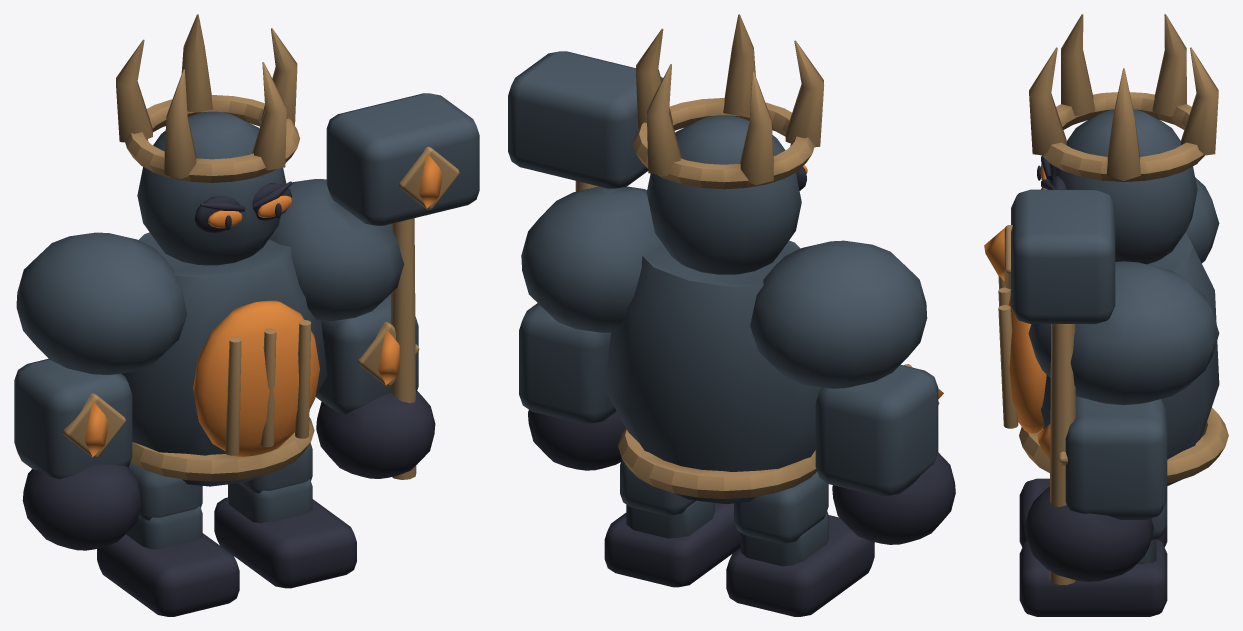
File: boss_1.glb
3 renders of one model, left to right at view 1: azimuth 30°, elevation 25°; view 2: azimuth 150°, elevation 25°; view 3: azimuth 270°, elevation 25°, orthographic. The views are drawn at different scales.
Parts seen in each view (by area): view 1: Email_Art_bras_d_0, Email_Art_bras_g_0, Email_BestiaireSculpte, Email_Art_tete_0, Email_Art_tibia_d_0, Email_Art_tibia_g_0, Email_Art_patte_g_0, Email_Art_patte_d_0; view 2: Email_Art_bras_d_0, Email_Art_bras_g_0, Email_BestiaireSculpte, Email_Art_tete_0, Email_Art_tibia_g_0, Email_Art_tibia_d_0, Email_Art_patte_g_0, Email_Art_patte_d_0; view 3: Email_Art_bras_d_0, Email_Art_tete_0, Email_BestiaireSculpte, Email_Art_tibia_d_0, Email_Art_bras_g_0, Email_Art_tibia_g_0, Email_Art_patte_d_0.
Part boxes in pixels (<box>): Email_Art_bras_d_0: <box>269,93,479,479</box>; Email_Art_bras_g_0: <box>14,232,186,550</box>; Email_BestiaireSculpte: <box>121,232,327,486</box>; Email_Art_tete_0: <box>116,14,299,265</box>; Email_Art_tibia_d_0: <box>214,479,356,588</box>; Email_Art_tibia_g_0: <box>97,506,239,616</box>; Email_Art_patte_g_0: <box>128,462,202,520</box>; Email_Art_patte_d_0: <box>239,443,312,493</box>; Email_Art_bras_d_0: <box>508,51,664,470</box>; Email_Art_bras_g_0: <box>750,240,955,544</box>; Email_BestiaireSculpte: <box>604,240,821,504</box>; Email_Art_tete_0: <box>633,14,824,274</box>; Email_Art_tibia_g_0: <box>726,511,874,616</box>; Email_Art_tibia_d_0: <box>604,500,740,587</box>; Email_Art_patte_g_0: <box>734,471,828,543</box>; Email_Art_patte_d_0: <box>620,459,695,515</box>; Email_Art_bras_d_0: <box>984,189,1219,584</box>; Email_Art_tete_0: <box>1029,14,1218,264</box>; Email_BestiaireSculpte: <box>998,232,1228,485</box>; Email_Art_tibia_d_0: <box>1019,539,1167,616</box>; Email_Art_bras_g_0: <box>1041,177,1219,263</box>; Email_Art_tibia_g_0: <box>1019,478,1167,547</box>; Email_Art_patte_d_0: <box>1151,500,1167,540</box>.
Bounding box in the file's own units: 1.14 × 1.36 × 0.5643.
